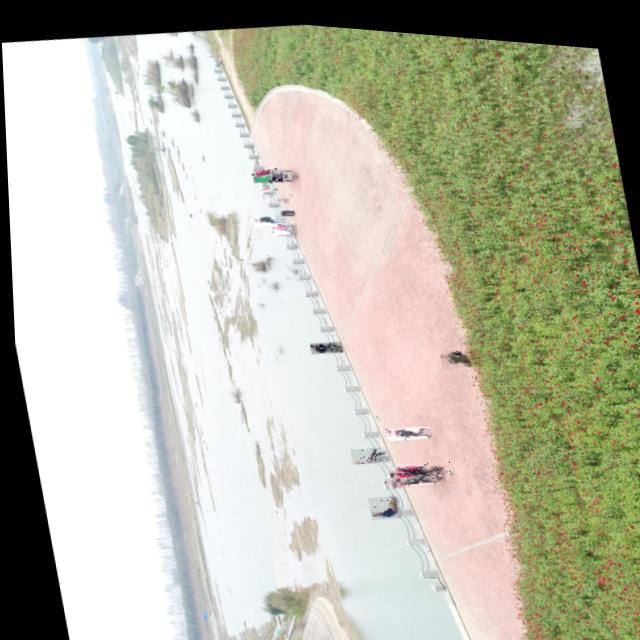Person: (393, 450, 450, 478), (386, 455, 442, 481), (436, 337, 481, 364), (380, 462, 436, 483), (388, 461, 439, 484), (363, 487, 398, 515), (382, 416, 428, 436), (346, 438, 383, 460), (306, 333, 340, 350), (252, 209, 285, 223), (249, 161, 278, 174), (265, 166, 288, 179), (270, 217, 290, 231), (256, 180, 270, 188), (250, 162, 265, 169)
